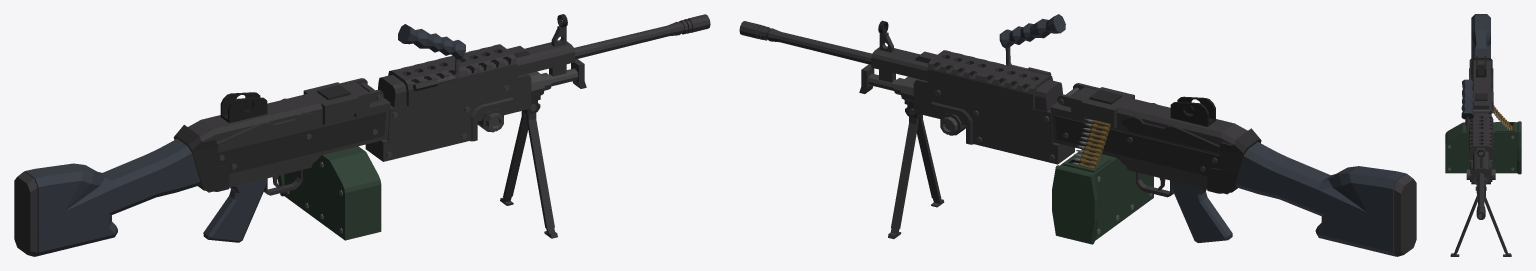
File: SM_MachineGun_01.glb
3 renders of one model, left to right at view 1: azimuth 30°, elevation 25°; view 2: azimuth 150°, elevation 25°; view 3: azimuth 270°, elevation 25°, orthographic. The views are drawn at different scales.
Visible parts, largest first — view 1: SM_MachineGun_01; view 2: SM_MachineGun_01; view 3: SM_MachineGun_01.
Boxes of the visible parts, <box> form: SM_MachineGun_01: <box>14,14,710,256</box>; SM_MachineGun_01: <box>739,14,1416,256</box>; SM_MachineGun_01: <box>1445,14,1521,256</box>.
Bounding box in the file's own units: 1.55 × 0.5065 × 0.2543.
1 material, 1 textured.
